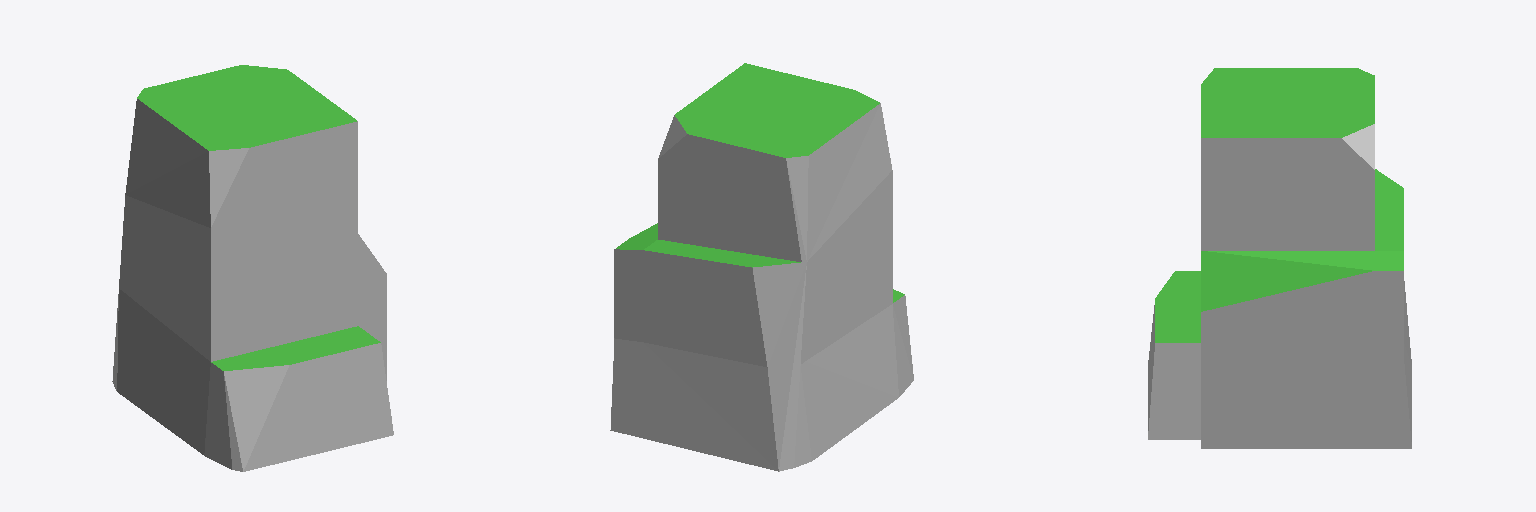
File: MountainSquare.obj
3 views of the same model, side by side, from view 1: azimuth 30°, elevation 25°; view 2: azimuth 150°, elevation 25°; view 3: azimuth 270°, elevation 25° (orthographic).
Visible parts, largest first — view 1: Cube.003; view 2: Cube.003; view 3: Cube.003.
Boxes of the visible parts, box(x1,y1,x2,y2) form: Cube.003: box(112, 65, 393, 471); Cube.003: box(610, 63, 913, 471); Cube.003: box(1148, 68, 1411, 448).
Size of the model in its own units: 2.07 by 3.22 by 2.6.